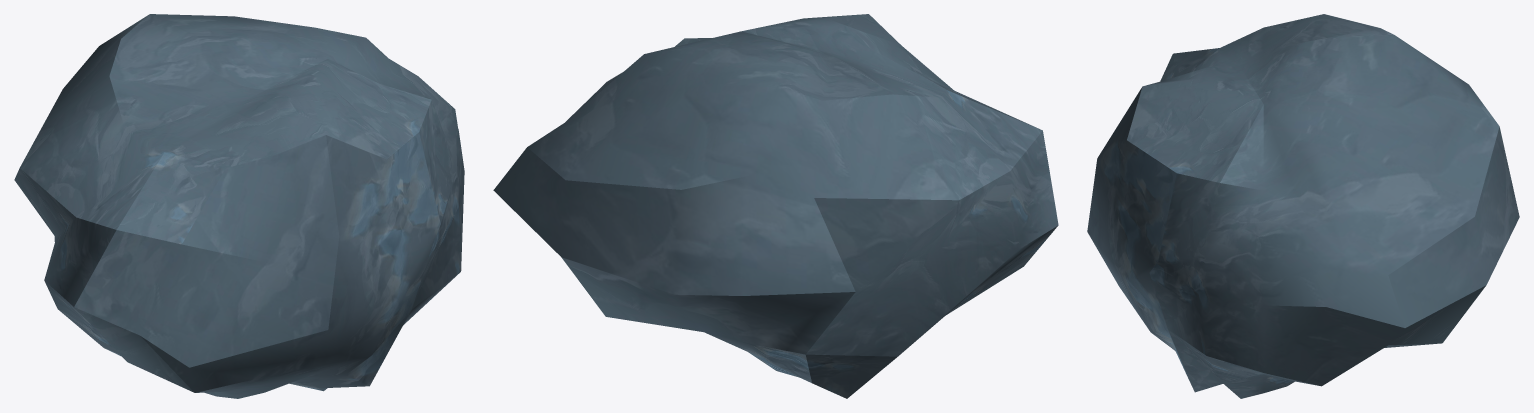
File: meteor-2.glb
3 renders of one model, left to right at view 1: azimuth 30°, elevation 25°; view 2: azimuth 150°, elevation 25°; view 3: azimuth 270°, elevation 25°, orthographic. The views are drawn at different scales.
Visible parts, largest first — view 1: meteor; view 2: meteor; view 3: meteor.
Boxes of the visible parts, x1=… form: meteor: x1=14, y1=14, x2=464, y2=398; meteor: x1=493, y1=14, x2=1058, y2=398; meteor: x1=1087, y1=14, x2=1519, y2=398.
Bounding box in the file's own units: 315 × 220 × 268.
1 material, 1 textured.
